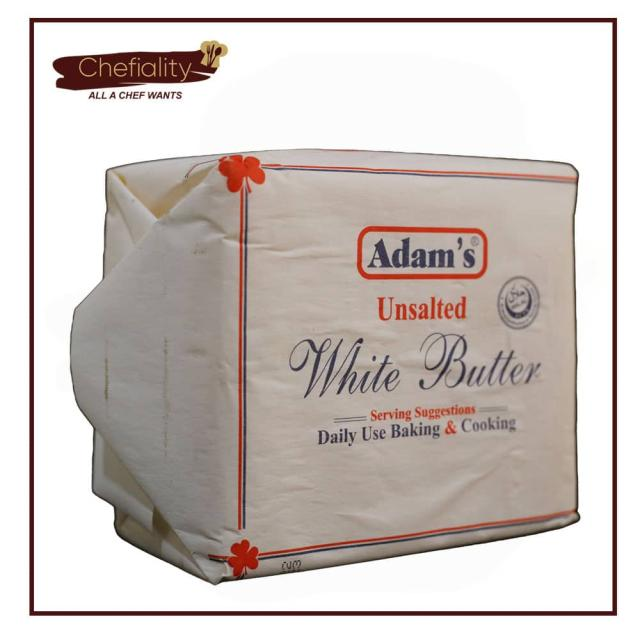butter: (70, 148, 580, 584)
